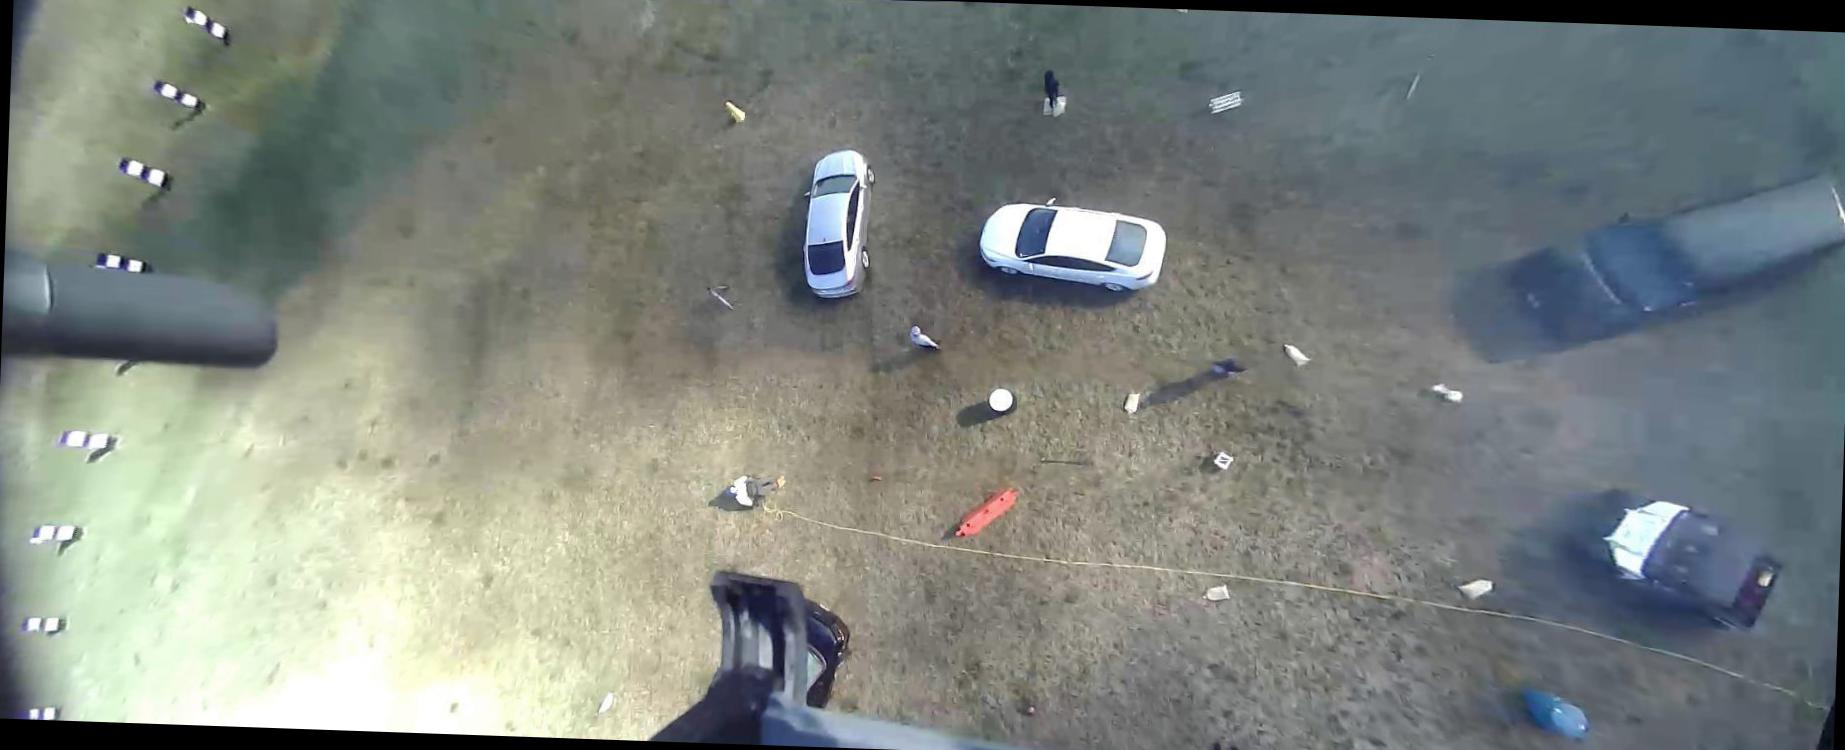vehicle: (1503, 161, 1844, 356), (1571, 487, 1785, 633), (975, 192, 1170, 296), (799, 148, 877, 301), (799, 599, 852, 710)
